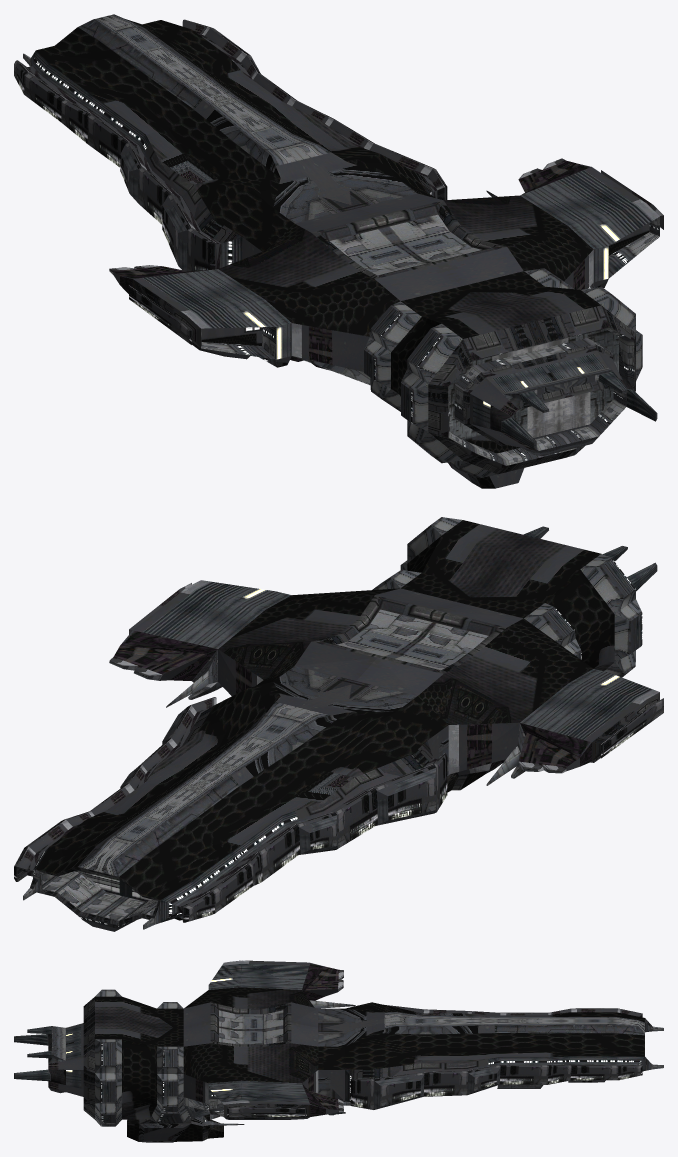
File: ts3modb.fbx
3 renders of one model, top to bottom at view 1: azimuth 30°, elevation 25°; view 2: azimuth 150°, elevation 25°; view 3: azimuth 270°, elevation 25°, orthographic. The views are drawn at different scales.
Parts seen in each view (by area): view 1: 00_Core, 01_Engine, 08_FrontLeft, 03_WingLeft2, 06_MidLeft, 02_WingLeft1, 04_WingRight1, 05_WingRight2, 09_FrontRight, 07_MidRight; view 2: 00_Core, 08_FrontLeft, 06_MidLeft, 03_WingLeft2, 09_FrontRight, 04_WingRight1, 02_WingLeft1, 01_Engine, 05_WingRight2, 07_MidRight; view 3: 00_Core, 09_FrontRight, 01_Engine, 07_MidRight, 05_WingRight2, 04_WingRight1, 02_WingLeft1, 03_WingLeft2, 08_FrontLeft, 06_MidLeft.
Boxes of the visible parts, x1=… form: 00_Core: x1=169, y1=90, x2=579, y2=488; 01_Engine: x1=401, y1=287, x2=657, y2=478; 08_FrontLeft: x1=14, y1=17, x2=213, y2=167; 03_WingLeft2: x1=218, y1=223, x2=400, y2=385; 06_MidLeft: x1=120, y1=129, x2=272, y2=271; 02_WingLeft1: x1=109, y1=265, x2=291, y2=367; 04_WingRight1: x1=486, y1=158, x2=663, y2=288; 05_WingRight2: x1=444, y1=195, x2=593, y2=289; 09_FrontRight: x1=104, y1=14, x2=296, y2=106; 07_MidRight: x1=260, y1=100, x2=447, y2=200; 00_Core: x1=169, y1=535, x2=614, y2=809; 08_FrontLeft: x1=98, y1=774, x2=300, y2=929; 06_MidLeft: x1=259, y1=711, x2=447, y2=854; 03_WingLeft2: x1=418, y1=618, x2=593, y2=775; 09_FrontRight: x1=14, y1=771, x2=213, y2=931; 04_WingRight1: x1=109, y1=580, x2=291, y2=707; 02_WingLeft1: x1=486, y1=669, x2=663, y2=785; 01_Engine: x1=400, y1=517, x2=657, y2=677; 05_WingRight2: x1=218, y1=588, x2=399, y2=695; 07_MidRight: x1=120, y1=689, x2=246, y2=790; 00_Core: x1=122, y1=996, x2=498, y2=1142; 09_FrontRight: x1=497, y1=1021, x2=663, y2=1088; 01_Engine: x1=14, y1=989, x2=121, y2=1126; 07_MidRight: x1=343, y1=1043, x2=500, y2=1109; 05_WingRight2: x1=183, y1=1043, x2=318, y2=1110; 04_WingRight1: x1=208, y1=1080, x2=355, y2=1119; 02_WingLeft1: x1=208, y1=960, x2=355, y2=1008; 03_WingLeft2: x1=184, y1=987, x2=314, y2=1008; 08_FrontLeft: x1=498, y1=1008, x2=663, y2=1032; 06_MidLeft: x1=373, y1=1002, x2=500, y2=1016.
Bounding box in the file's own units: 9939 × 3870 × 18559.
Materials: 1 (1 with a texture image).
